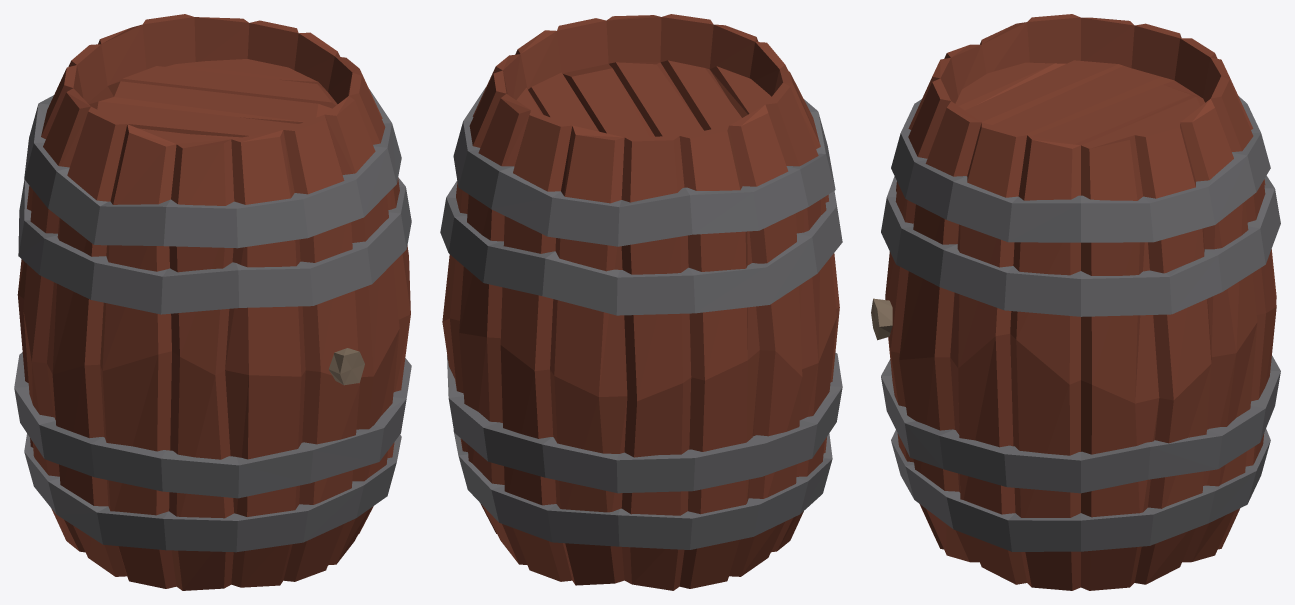
The model's file is SM_Prop_Barrel_03.glb.
The picture shows the model from 3 angles, left to right: view 1: azimuth 30°, elevation 25°; view 2: azimuth 150°, elevation 25°; view 3: azimuth 270°, elevation 25°; orthographic projection.
Visible parts, largest first — view 1: SM_Prop_Barrel_03_part00; view 2: SM_Prop_Barrel_03_part00; view 3: SM_Prop_Barrel_03_part00.
Part boxes in pixels (x1,y1,x2,y2): SM_Prop_Barrel_03_part00: (14,14,411,590); SM_Prop_Barrel_03_part00: (440,14,842,590); SM_Prop_Barrel_03_part00: (871,14,1280,590).
Size of the model in its own units: 0.8583 by 1.07 by 0.8794.
1 material, 1 textured.
